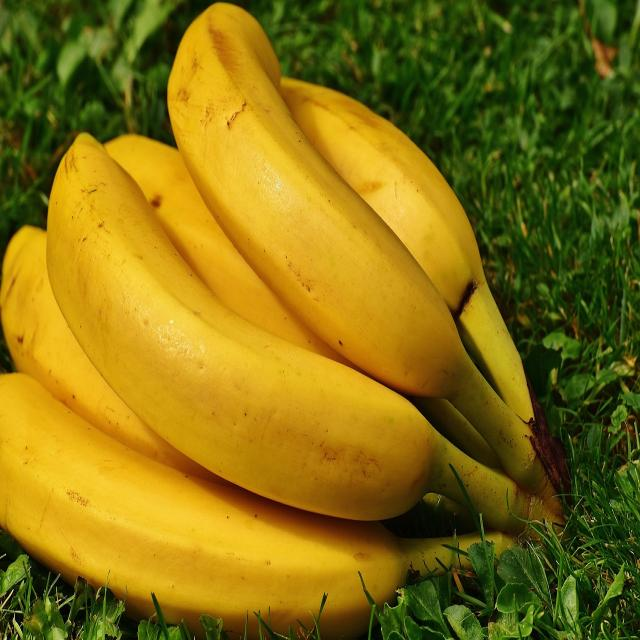Banana: (46, 135, 562, 531), (168, 4, 548, 489), (0, 373, 452, 638), (281, 79, 534, 422)
